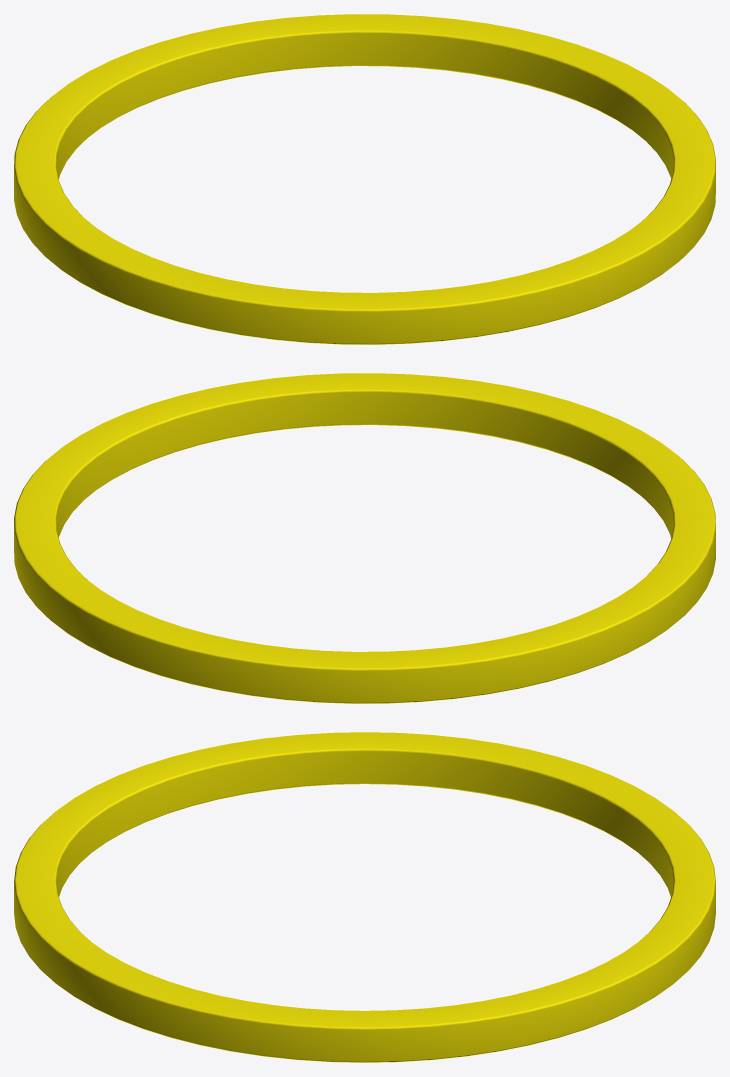
3 renders of one model, top to bottom at view 1: azimuth 30°, elevation 25°; view 2: azimuth 150°, elevation 25°; view 3: azimuth 270°, elevation 25°, orthographic.
Visible parts, largest first — view 1: seal_body; view 2: seal_body; view 3: seal_body.
Part boxes in pixels (x1,y1,x2,y2): seal_body: (14,14,715,344); seal_body: (14,373,715,703); seal_body: (14,732,715,1062).
Bounding box in the file's own units: 0.115 × 0.0065 × 0.115.
